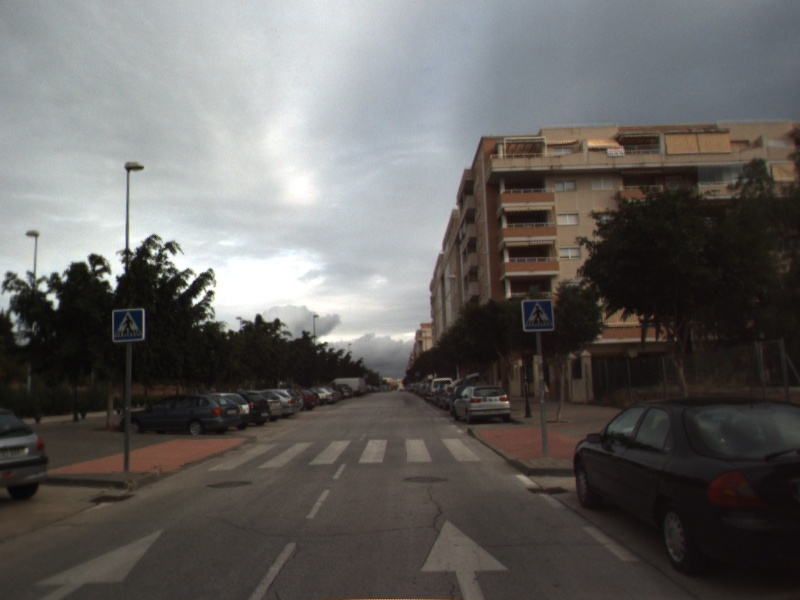STRAIGHT: (29, 526, 168, 600), (418, 517, 511, 600)
